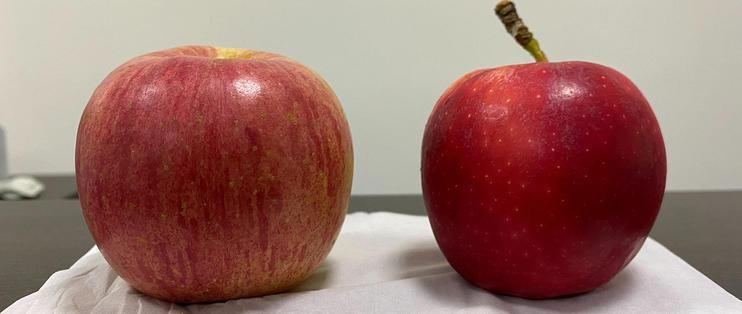apple: (70, 40, 353, 299), (414, 54, 664, 295)
